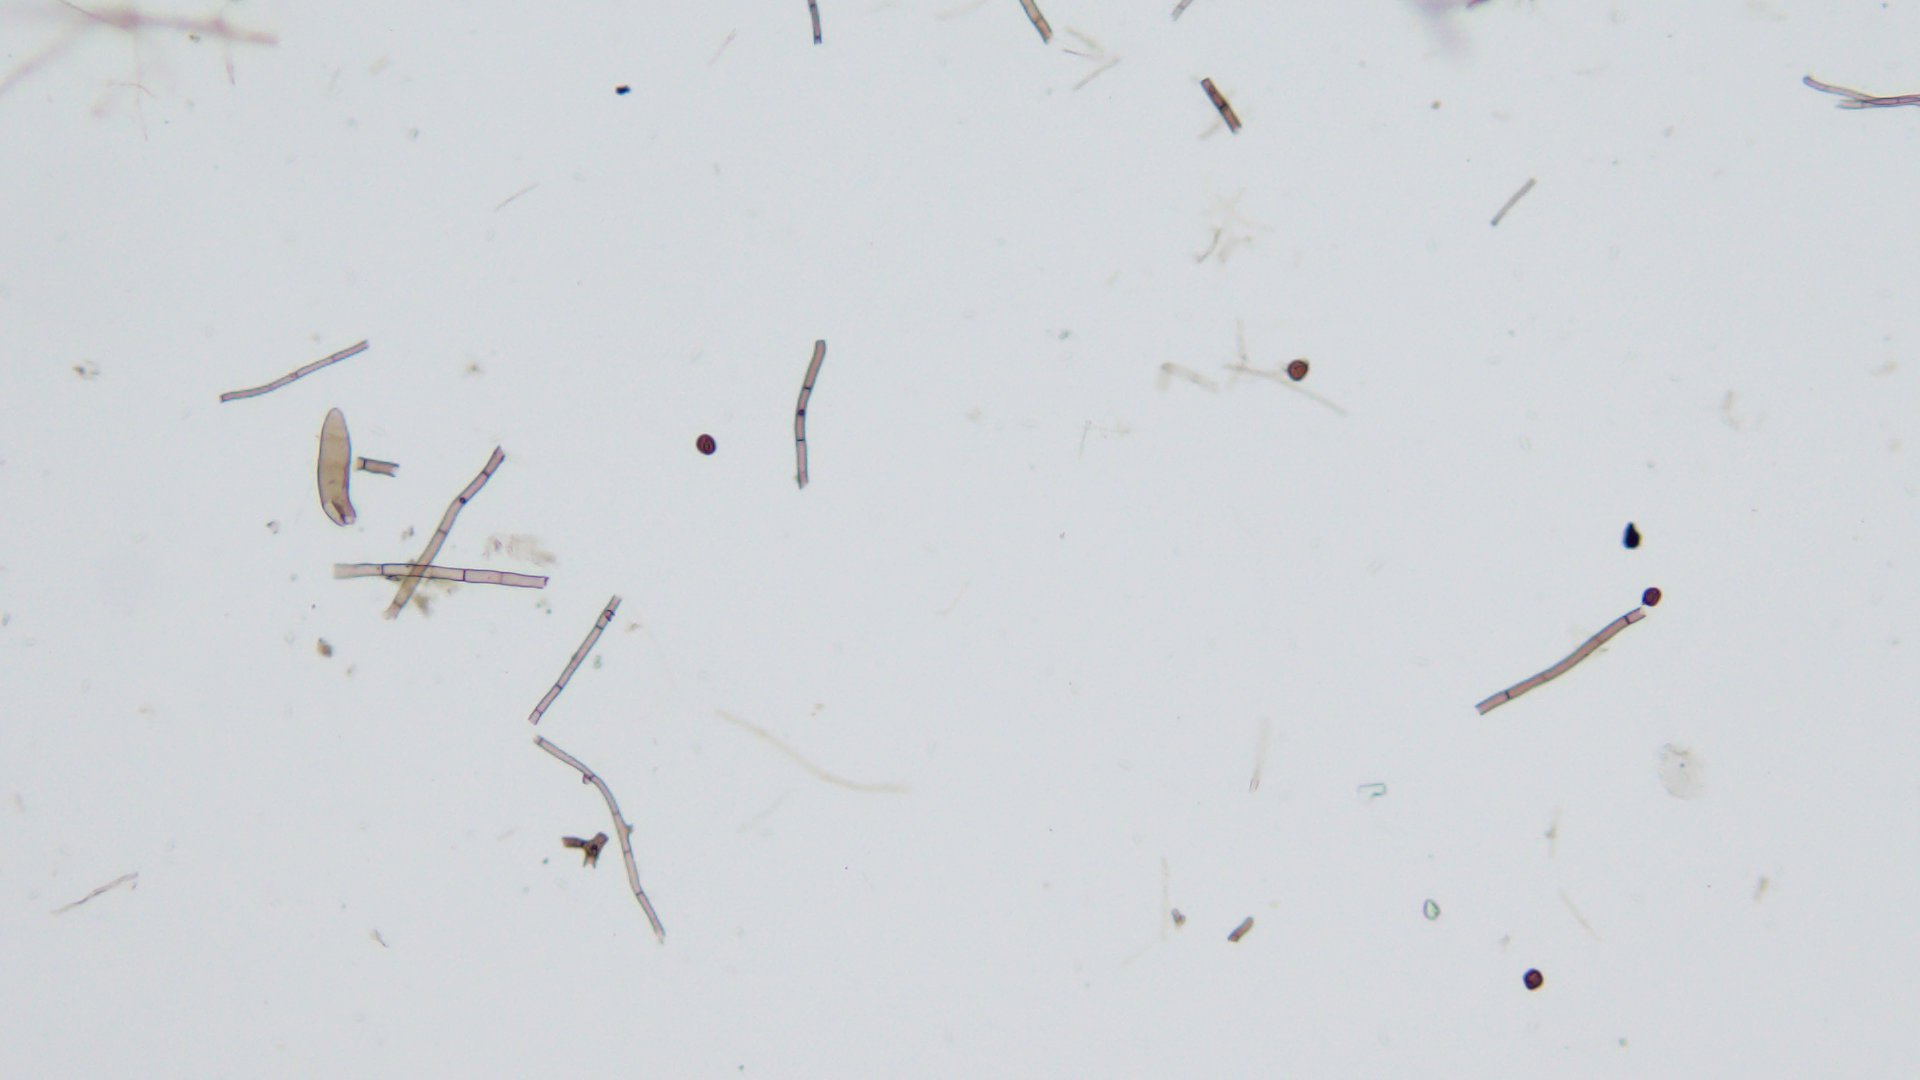dbb_spore: (314, 407, 363, 525)
shs_spore: (1640, 585, 1663, 611), (1520, 971, 1544, 992), (695, 435, 717, 456), (1287, 363, 1309, 381)
